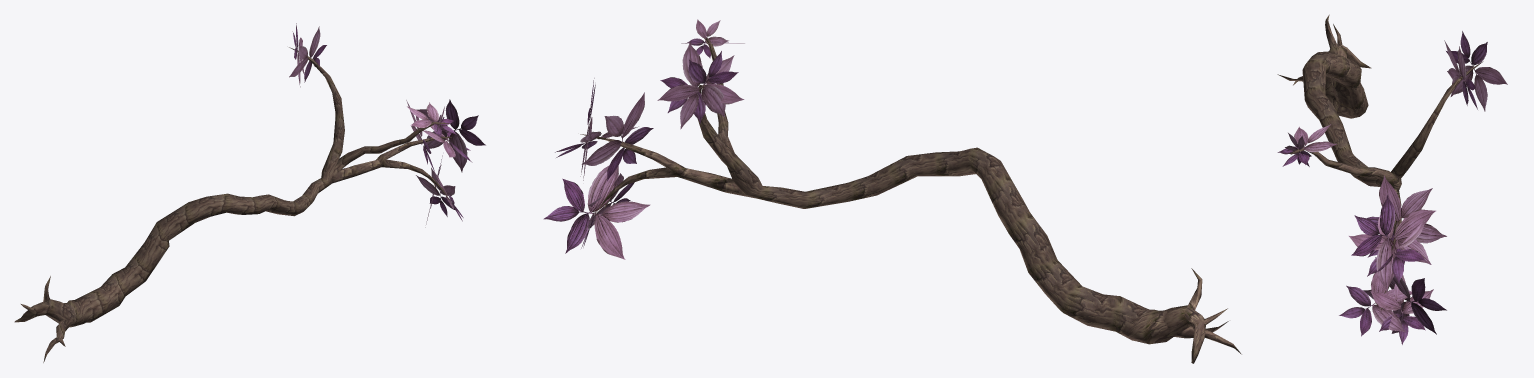
The model's file is tree-03.fbx.
The picture shows the model from 3 angles, left to right: view 1: azimuth 30°, elevation 25°; view 2: azimuth 150°, elevation 25°; view 3: azimuth 270°, elevation 25°; orthographic projection. The views are drawn at different scales.
Parts seen in each view (by area): view 1: tree.006, tree.005; view 2: tree.006, tree.005; view 3: tree.005, tree.006.
Part boxes in pixels (box(x1,y1,x2,y2)): tree.006: box(14, 47, 451, 362); tree.005: box(289, 23, 485, 227); tree.006: box(580, 37, 1241, 363); tree.005: box(543, 19, 744, 259); tree.005: box(1277, 31, 1507, 344); tree.006: box(1277, 14, 1483, 311).
Bounding box in the file's own units: 12.65 × 5.75 × 4.65.
